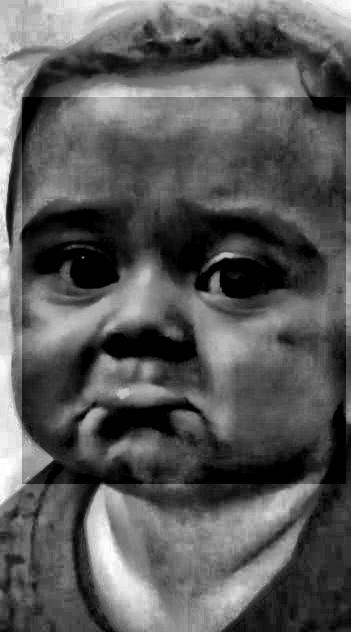sad: (22, 98, 346, 485)
